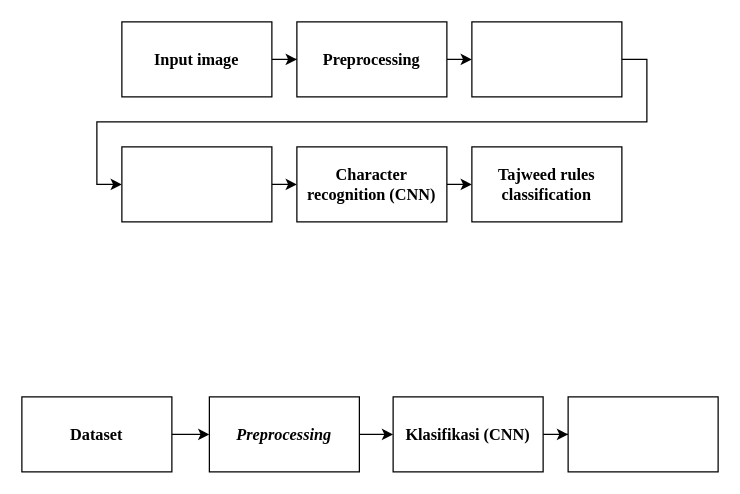
This 740x494 diagram has some shape labels left out. Each missing label, with the centre of its shape:
"Character segmentation" belongs at pixel 196 184.
"Marker character detection ( template matching )" belongs at pixel 546 59.
"Model" belongs at pixel 642 434.
